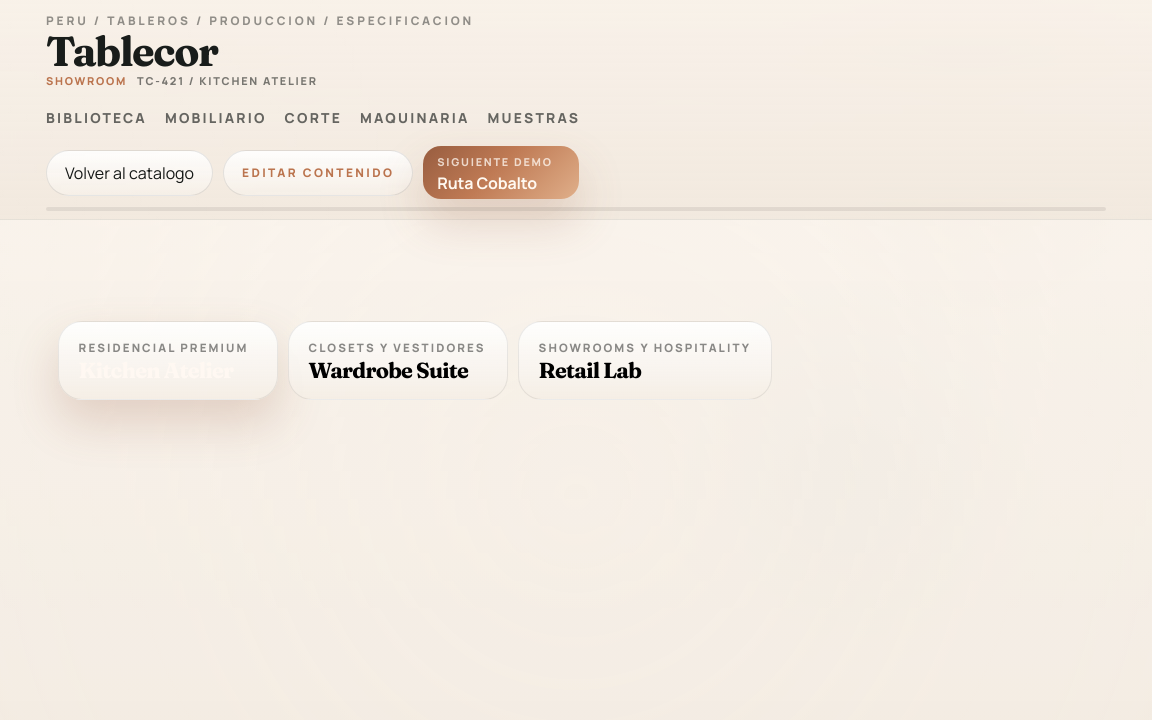
Test case: TablecorPage › disables machines that are outside the active program route
(page scrolled)
Click the button "Closets y vestidores Wardrobe Suite": (398,360) [288, 320, 508, 400]
(page scrolled)
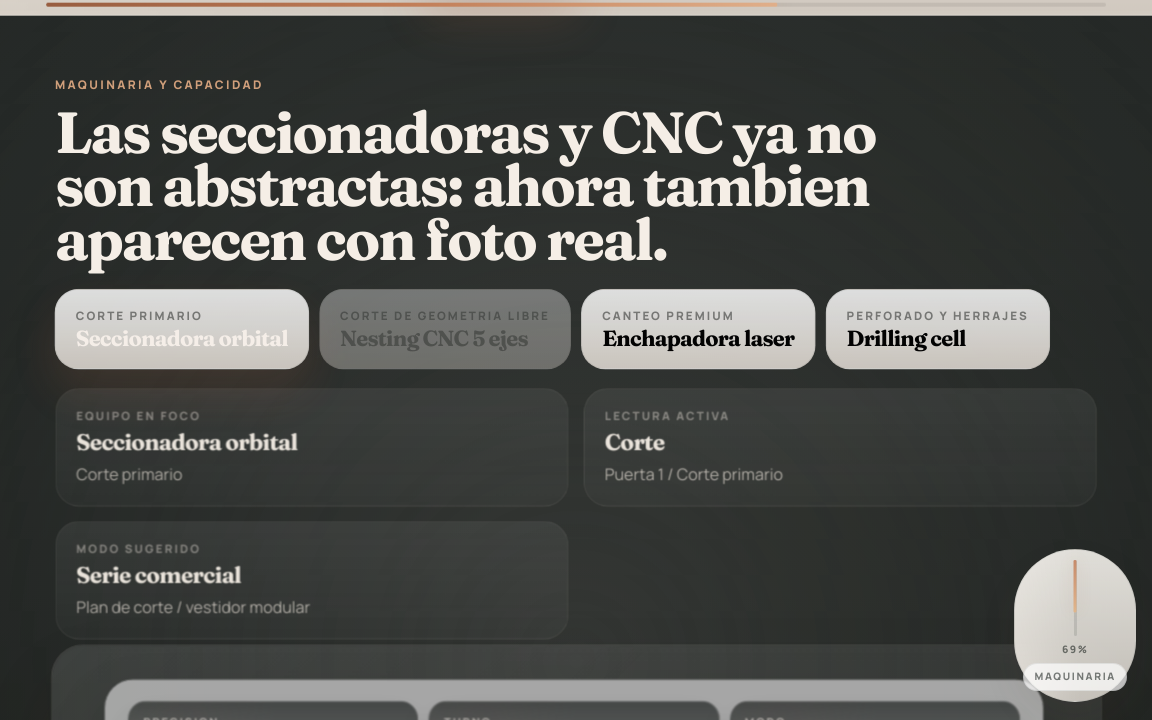
Now the button "Perforado y herrajes Drilling cell" is enabled, box [825, 288, 1050, 369]
